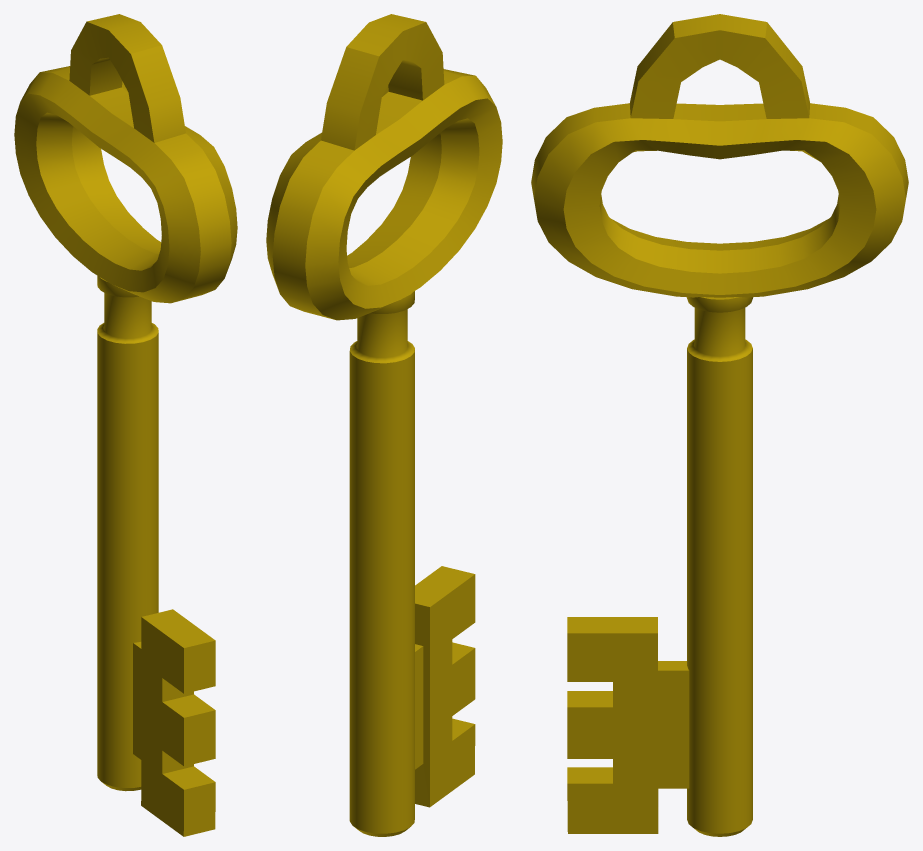
File: key.fbx
3 views of the same model, side by side, from view 1: azimuth 30°, elevation 25°; view 2: azimuth 150°, elevation 25°; view 3: azimuth 270°, elevation 25° (orthographic). The views are drawn at different scales.
Parts seen in each view (by area): view 1: polySurface1; view 2: polySurface1; view 3: polySurface1.
Boxes of the visible parts, x1,y1,x2,y2 form: polySurface1: [14, 14, 237, 836]; polySurface1: [266, 14, 502, 836]; polySurface1: [531, 14, 908, 836].
Bounding box in the file's own units: 0.5373 × 5.38 × 2.3.
